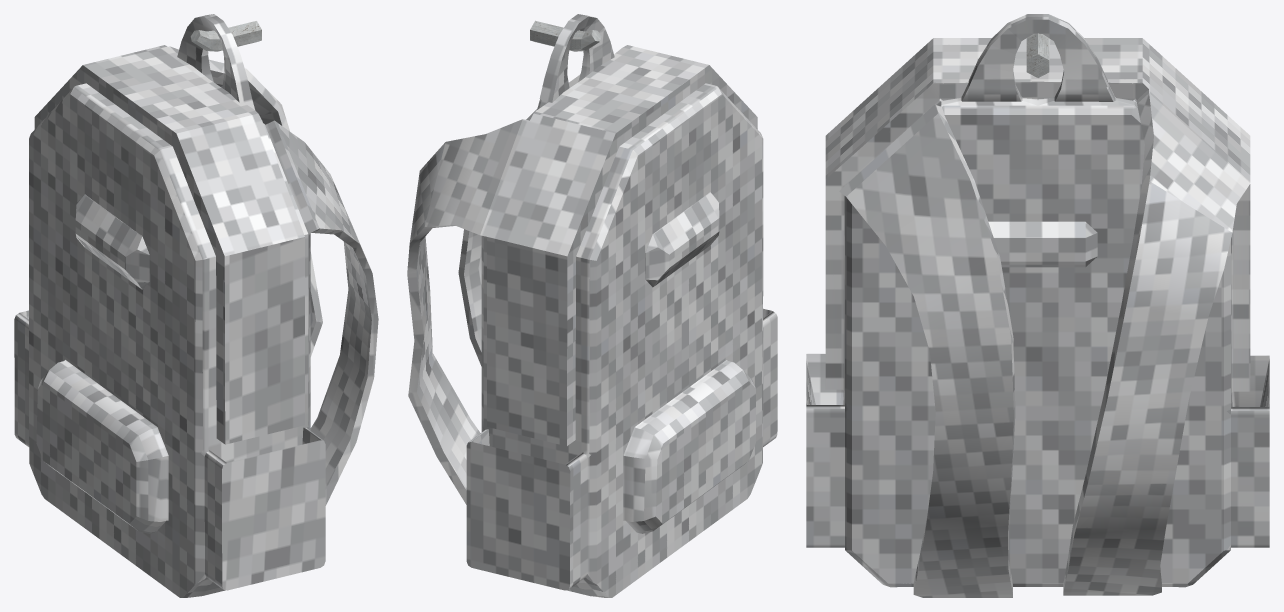
The model's file is Zaino.fbx.
The picture shows the model from 3 angles, left to right: view 1: azimuth 30°, elevation 25°; view 2: azimuth 150°, elevation 25°; view 3: azimuth 270°, elevation 25°; orthographic projection. The views are drawn at different scales.
Visible parts, largest first — view 1: Zaino, Cylinder.046; view 2: Zaino, Cylinder.046; view 3: Zaino, Cylinder.046.
Boxes of the visible parts, bbox=[...] form: Zaino: bbox=[14, 14, 378, 597]; Cylinder.046: bbox=[190, 21, 261, 51]; Zaino: bbox=[407, 14, 777, 597]; Cylinder.046: bbox=[530, 20, 601, 51]; Zaino: bbox=[806, 14, 1269, 597]; Cylinder.046: bbox=[1026, 33, 1049, 77].
Size of the model in its own units: 0.4577 by 0.8666 by 0.6347.
4 materials, 4 textured.
